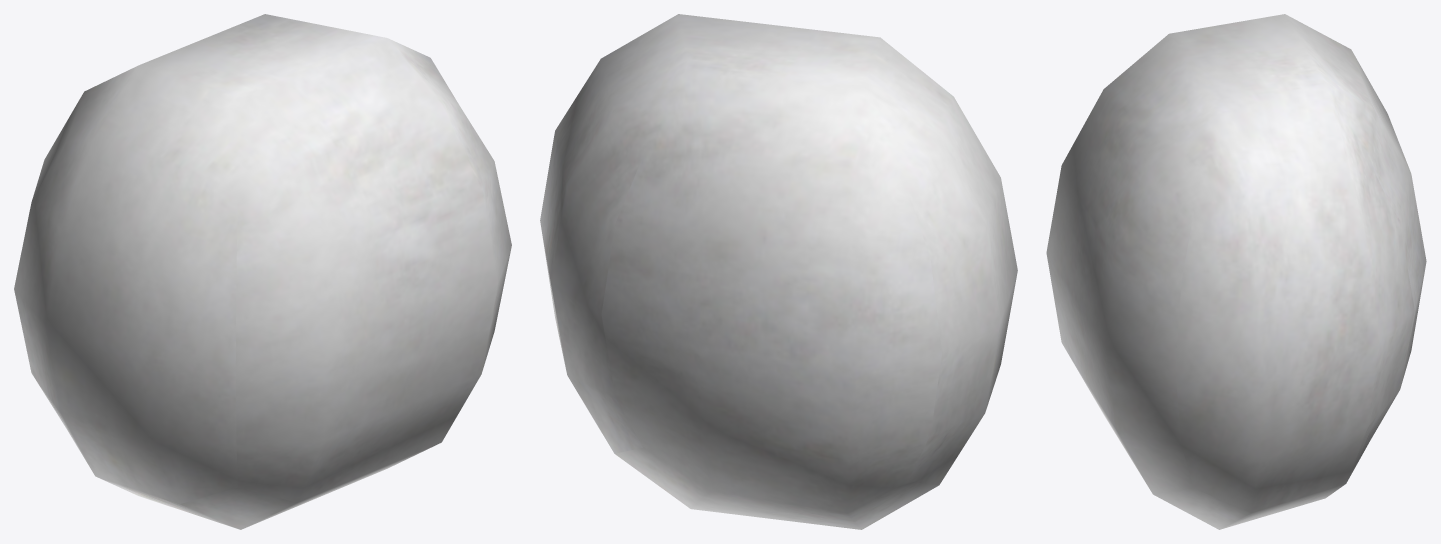
The model's file is cotton_ball.fbx.
3 renders of one model, left to right at view 1: azimuth 30°, elevation 25°; view 2: azimuth 150°, elevation 25°; view 3: azimuth 270°, elevation 25°, orthographic. The views are drawn at different scales.
Parts seen in each view (by area): view 1: cotton_ball; view 2: cotton_ball; view 3: cotton_ball.
Boxes of the visible parts, left/top/right/bottom form: cotton_ball: left=14, top=14, right=511, bottom=529; cotton_ball: left=540, top=14, right=1017, bottom=529; cotton_ball: left=1046, top=14, right=1426, bottom=529.
Bounding box in the file's own units: 0.0412 × 0.0382 × 0.0317.
